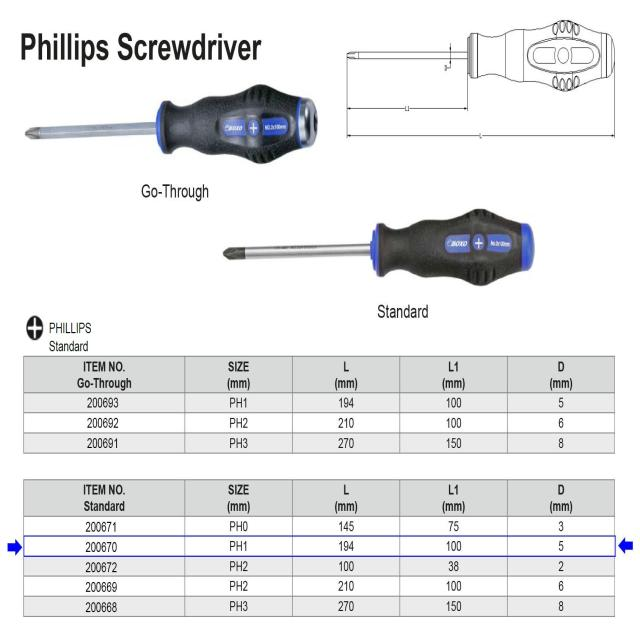Screwdriver: (224, 209, 534, 285), (26, 85, 318, 164), (345, 20, 617, 92)
